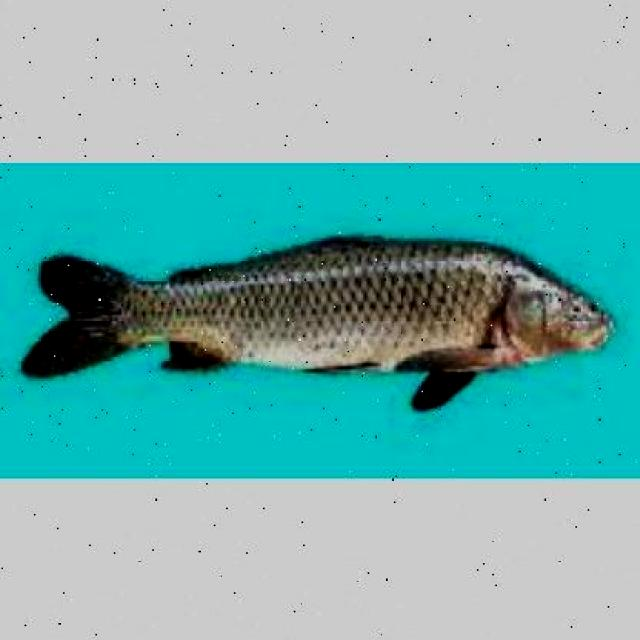ikan-mas: (23, 222, 614, 384)
